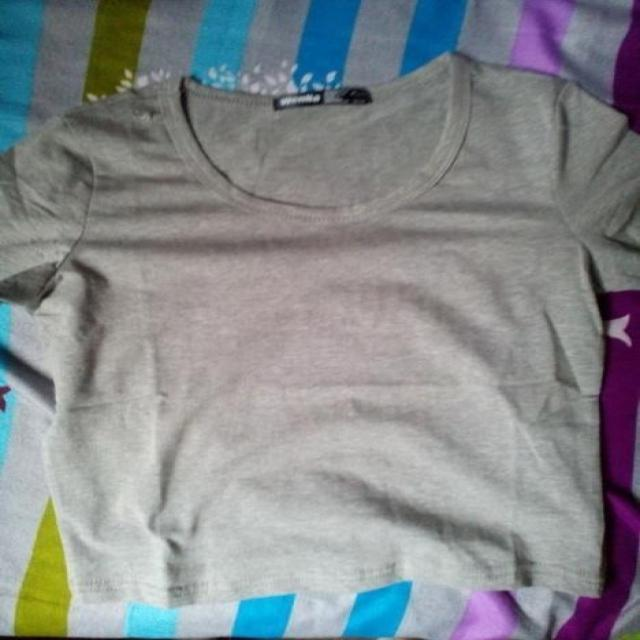short sleeve top: (0, 56, 639, 609)
